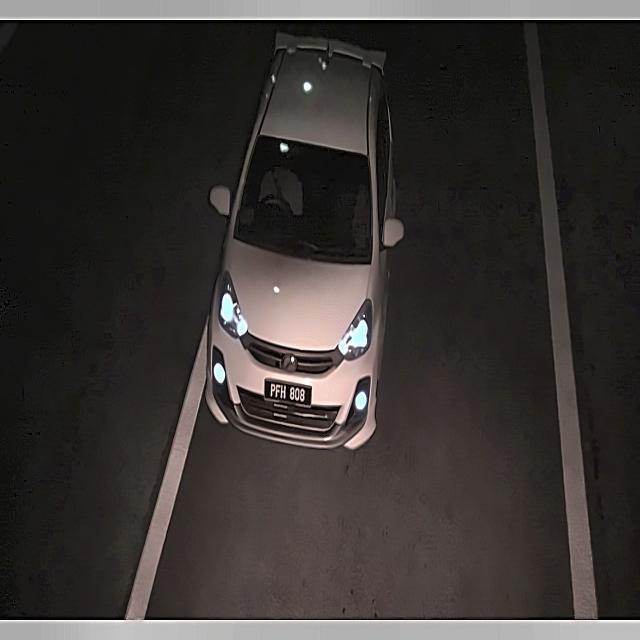car: (264, 374, 314, 412)
